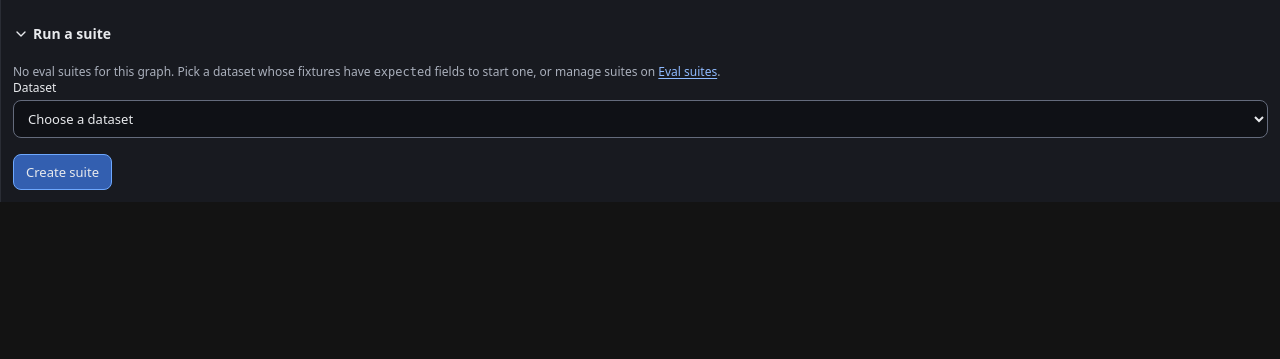
Scenario: EvalsPanel › creates a first suite from a dataset
expect the text "No eval suites for this graph" is shown: met, box [13,63,374,80]
Select "Questions (2)" in the dropdown labelled "Dataset" at (640, 119), box [13,100,1268,138]
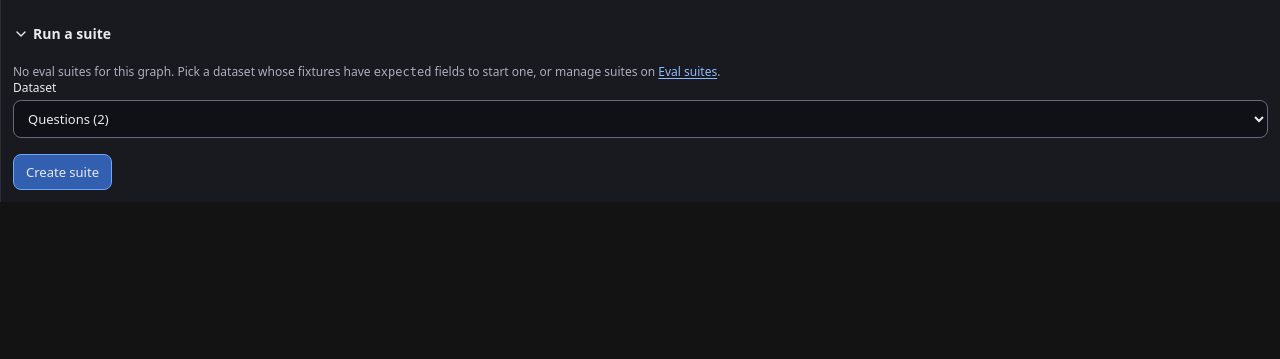
Click the button "Create suite".
click(62, 172)  # box [13,154,112,190]
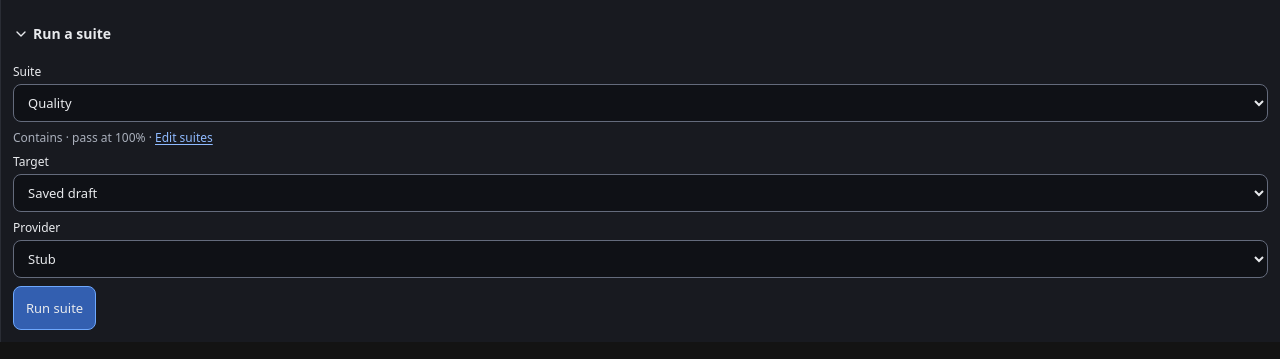
expect the button "Run suite" is shown: met, box [13,286,96,330]
